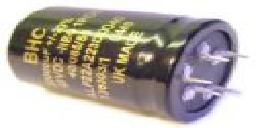Electrolytic-capacitor: (7, 4, 246, 124)
